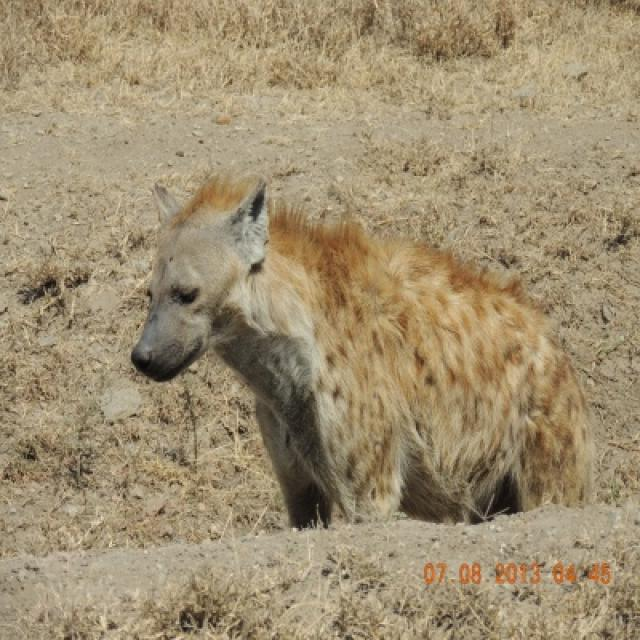hyena: (130, 174, 595, 530)
